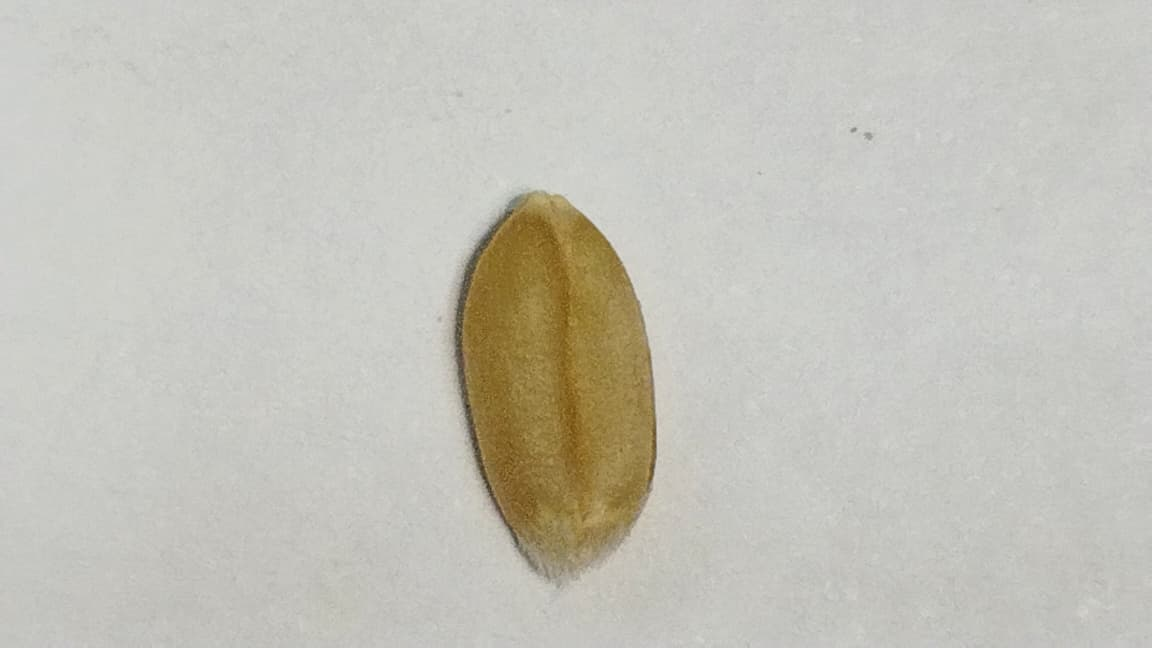healthy: (462, 194, 655, 562)
